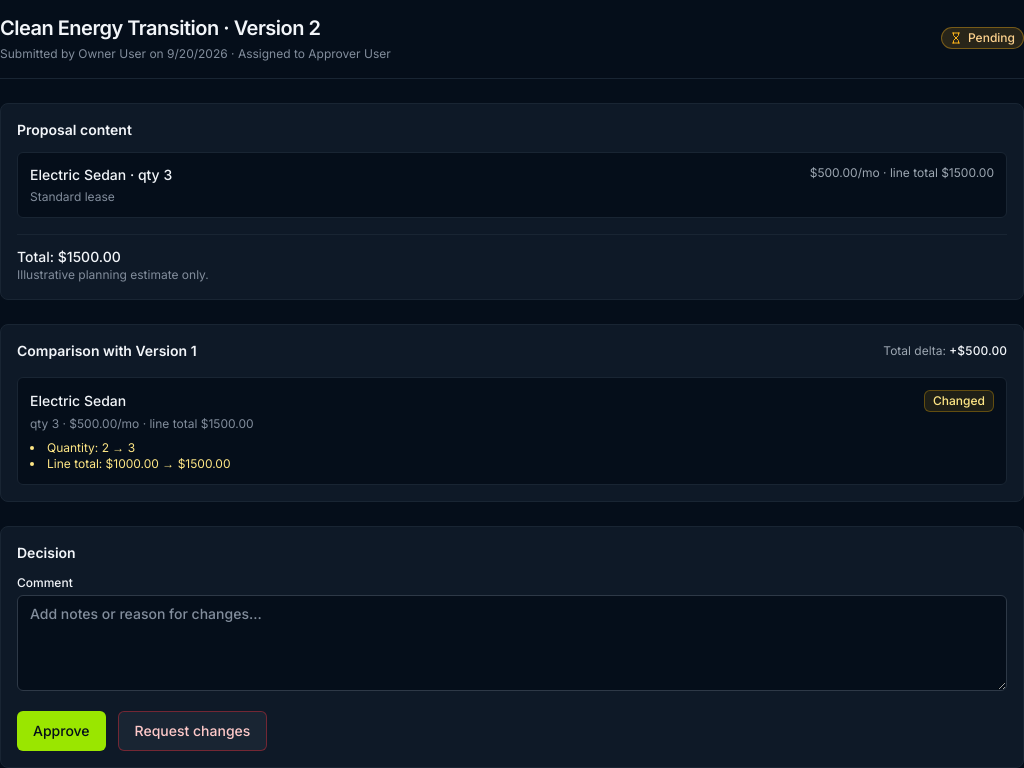
Scenario: ApprovalDetail › sends no decision when the approver cancels the confirmation
(page scrolled)
Click the button "Approve".
click(61, 731)  # box [17,711,106,751]
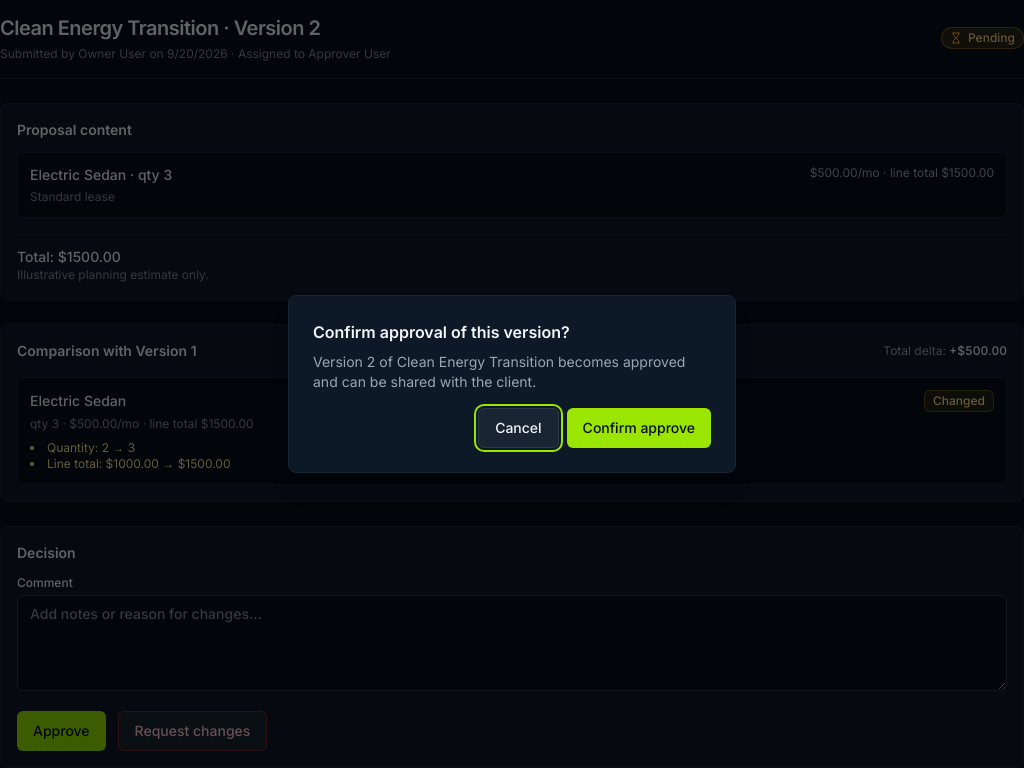
Expected: the dialog is shown, [288,295,736,473]
Click the button "Cancel".
click(518, 428)  # box [478,408,559,448]
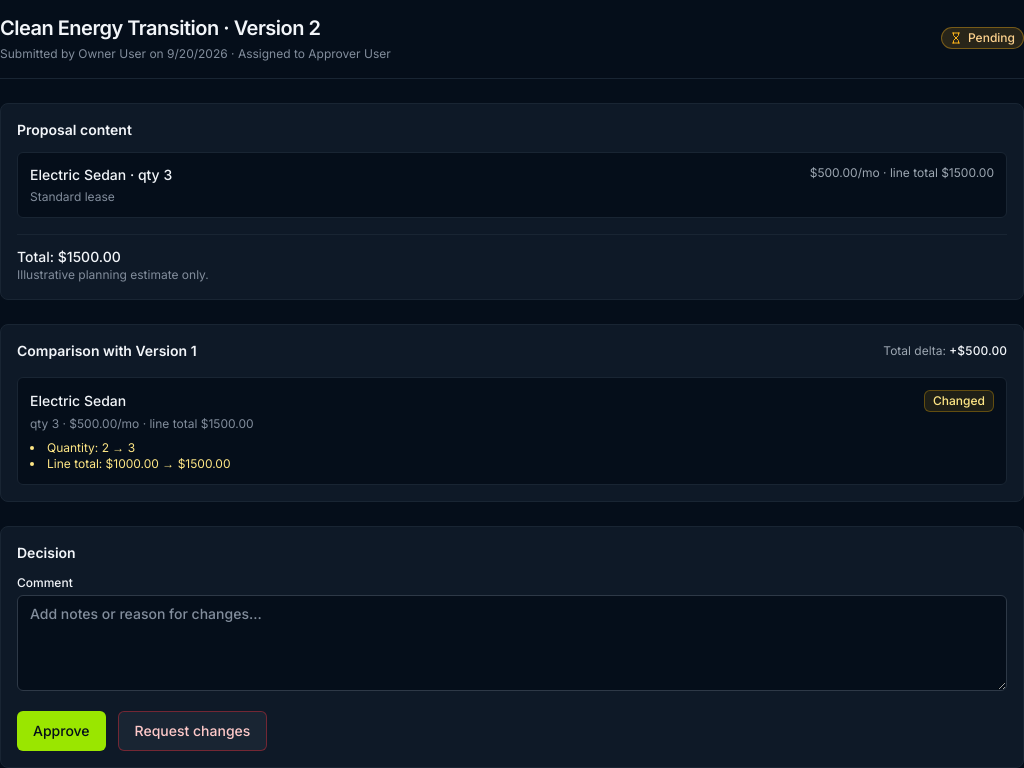
Expected: the dialog is gone
